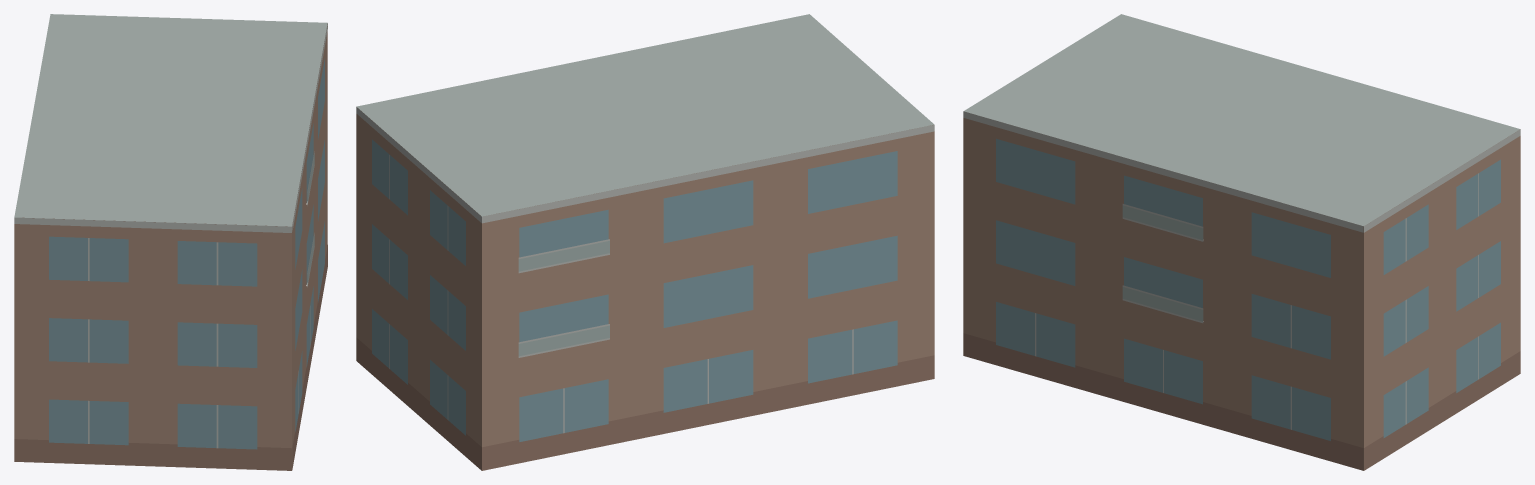
File: survey-upis-32699839.glb
The picture shows the model from 3 angles, left to right: view 1: azimuth 30°, elevation 25°; view 2: azimuth 150°, elevation 25°; view 3: azimuth 270°, elevation 25°; orthographic projection. The views are drawn at different scales.
Visible parts, largest first — view 1: survey-upis-32699839.tmp; view 2: survey-upis-32699839.tmp; view 3: survey-upis-32699839.tmp.
Part boxes in pixels (x1,y1,x2,y2): survey-upis-32699839.tmp: (14,14,327,470); survey-upis-32699839.tmp: (356,14,934,470); survey-upis-32699839.tmp: (963,14,1520,470).
Bounding box in the file's own units: 17.04 × 9.15 × 18.9.
